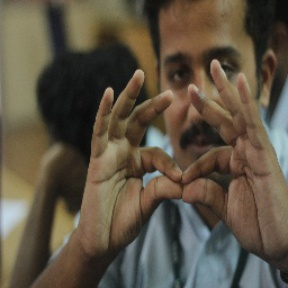B: (126, 133, 243, 215)
